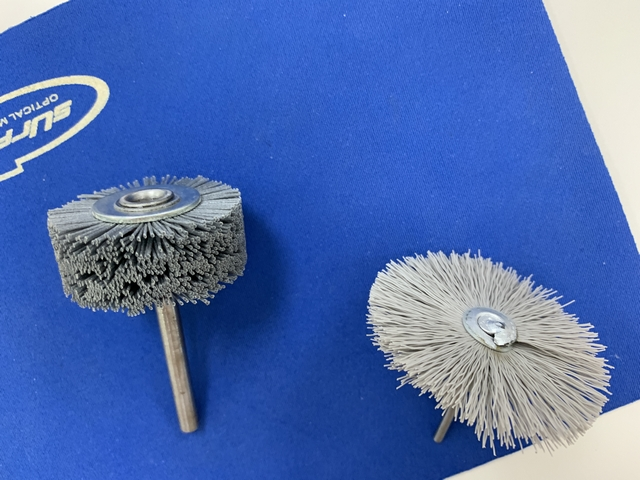TOOL: (347, 239, 638, 467), (326, 293, 609, 472), (425, 244, 598, 472)
Wheel Brush: (41, 164, 273, 439), (27, 199, 274, 438), (106, 160, 254, 436)
